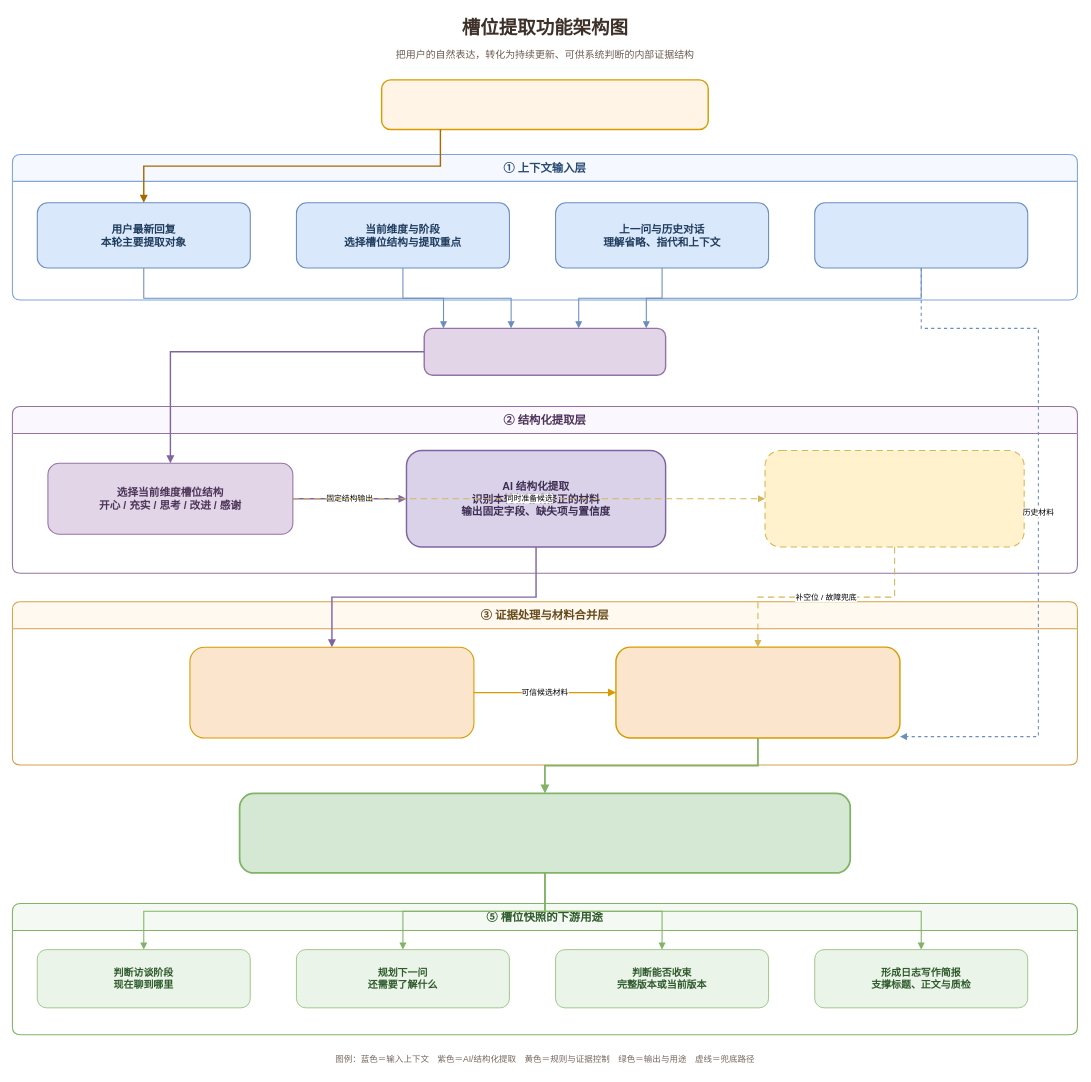
Image size: 1091x1082. Some labels were removed from this diagram. The shapes that lost their labels are listed below. From the top down, each one's centre as x and y in pixels, then its label:
(x=545, y=104): 入口条件：意图识别层允许提取 正常内容 / 否定 AI 推测
(x=921, y=235): 已有材料快照 保留前几轮已经确认的内容
(x=544, y=351): 组装本轮提取输入包
(x=894, y=498): 保守规则提取候选 捕捉表达中明确、可直接确认的材料 承担模型不可用时的兜底
(x=331, y=692): 字段规范化与证据检查 限制过度推断 · 记录用户否定 判断新材料是否真正得到支持
(x=757, y=692): 与已有快照合并 保留可信旧材料 · 接纳更具体的新材料 AI 留空时由保守规则补充
(x=544, y=833): ④ 新的内部材料快照｜用户不可见 已确认槽位 · 仍缺失的槽位 · 置信度 · 证据与否定状态
